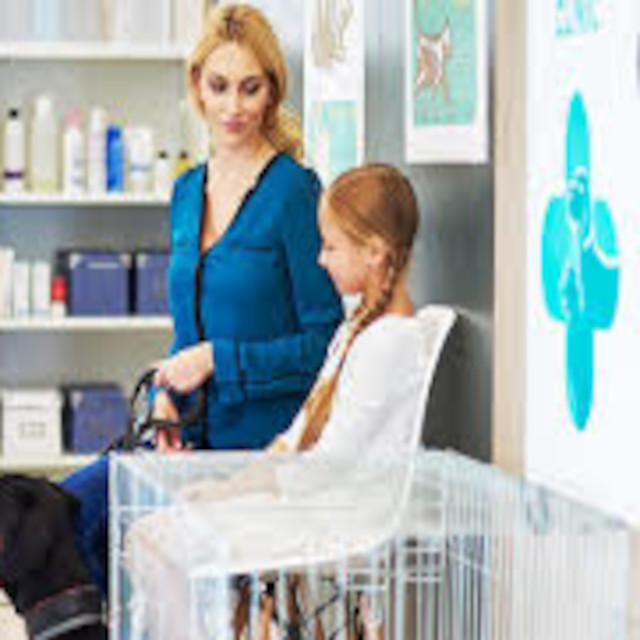kobieta: (155, 0, 338, 460), (255, 143, 429, 555)
